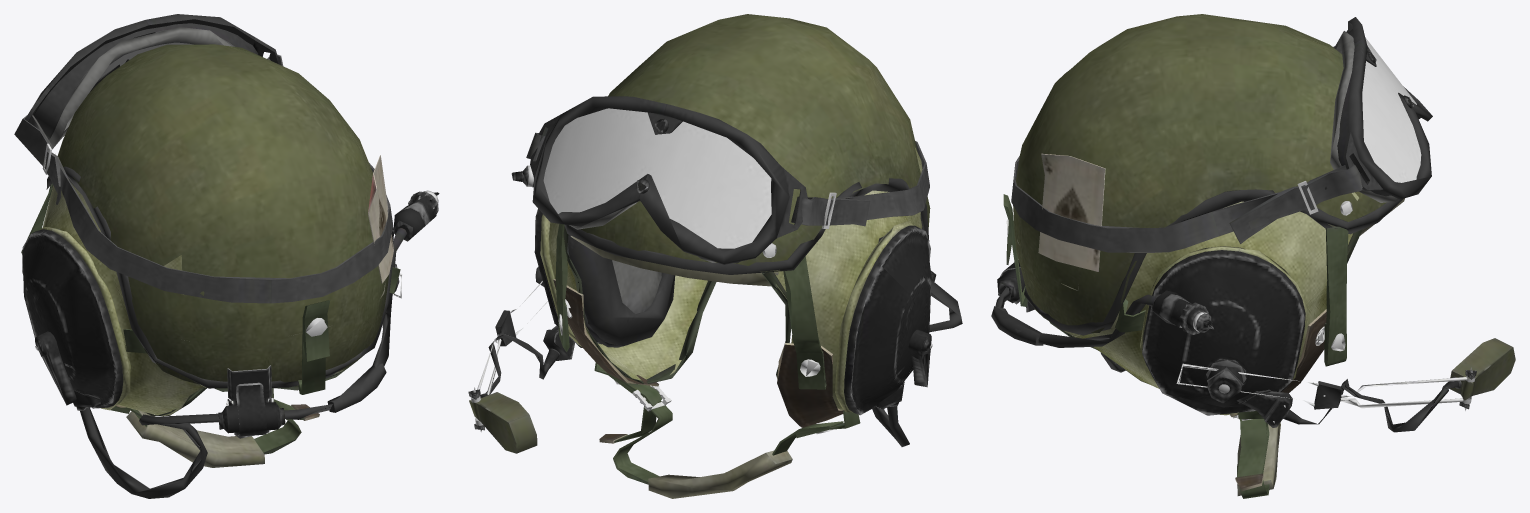
The model's file is helmet.glb.
3 renders of one model, left to right at view 1: azimuth 30°, elevation 25°; view 2: azimuth 150°, elevation 25°; view 3: azimuth 270°, elevation 25°, orthographic. The views are drawn at different scales.
Visible parts, largest first — view 1: m; view 2: m; view 3: m.
Boxes of the visible parts, x1,y1,x2,y2 form: m: [14, 14, 439, 498]; m: [468, 14, 962, 498]; m: [991, 14, 1515, 498].
Bounding box in the file's own units: 0.2621 × 0.267 × 0.2904.
Materials: 1 (1 with a texture image).
